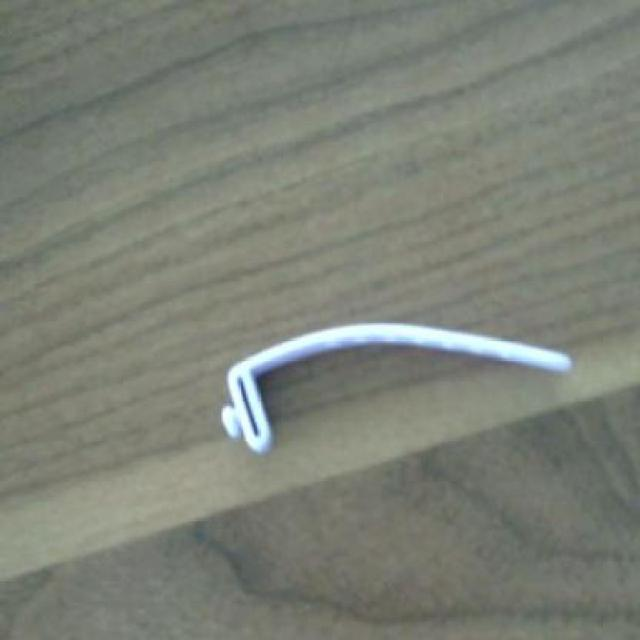Plastic: (221, 321, 572, 453)
